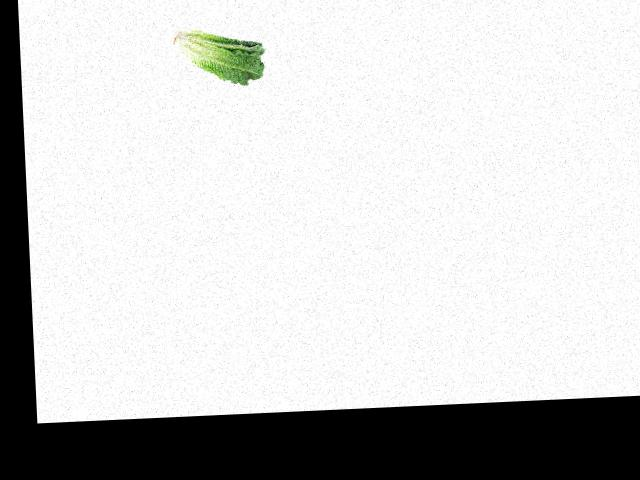lettuce: (167, 24, 268, 87)
